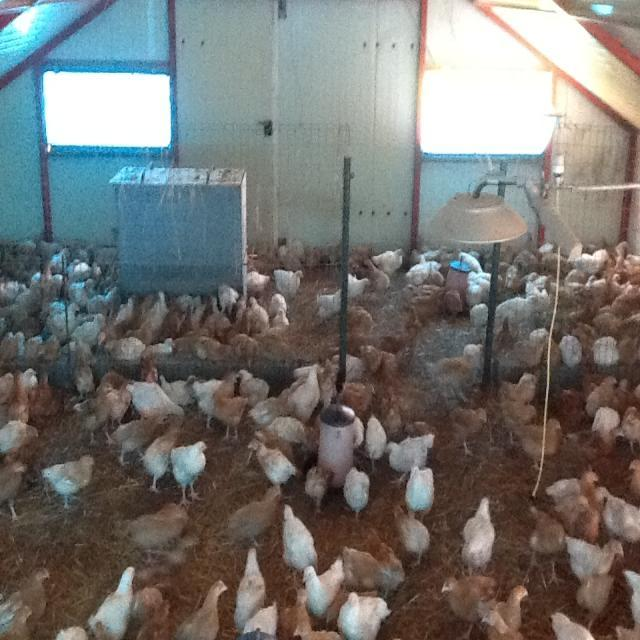poussin: (124, 499, 190, 568), (438, 574, 497, 638), (523, 508, 569, 590), (564, 534, 625, 595), (87, 562, 137, 636), (108, 406, 168, 467), (228, 479, 284, 542), (426, 342, 482, 404), (171, 580, 228, 640), (246, 374, 306, 431), (0, 558, 49, 622), (42, 452, 96, 510), (138, 420, 180, 493), (571, 570, 619, 631), (300, 554, 347, 616), (384, 432, 434, 489), (336, 591, 393, 640), (460, 495, 494, 577), (281, 506, 318, 580), (514, 415, 562, 472), (392, 504, 432, 572), (126, 376, 186, 420), (172, 440, 208, 510), (567, 424, 630, 464), (246, 438, 298, 486), (74, 386, 114, 448), (236, 547, 266, 627), (340, 544, 386, 596), (496, 278, 540, 331), (371, 536, 407, 598), (212, 373, 248, 434), (446, 405, 488, 457), (134, 583, 172, 640), (288, 362, 326, 418), (498, 394, 538, 447), (604, 487, 640, 545), (192, 373, 228, 430), (478, 586, 530, 625), (548, 466, 604, 502), (252, 426, 302, 466), (365, 344, 407, 391), (577, 482, 612, 538), (404, 282, 448, 326), (402, 463, 434, 523), (0, 460, 30, 520), (0, 420, 42, 462), (366, 412, 391, 479), (496, 374, 544, 408), (281, 586, 313, 636), (552, 492, 594, 530), (584, 374, 620, 418), (537, 292, 573, 336), (102, 376, 134, 425), (548, 608, 597, 640), (270, 412, 314, 446), (238, 599, 282, 632), (344, 469, 371, 522), (100, 332, 146, 363), (46, 300, 80, 341), (0, 599, 34, 639), (304, 464, 332, 512), (482, 608, 524, 640), (158, 378, 202, 408), (27, 369, 56, 414), (505, 246, 541, 282), (343, 303, 378, 340), (562, 294, 605, 324), (314, 360, 342, 406), (192, 332, 234, 362), (342, 380, 379, 414), (315, 282, 343, 326), (407, 256, 447, 286), (574, 246, 611, 278), (4, 238, 36, 275), (275, 262, 306, 300), (161, 295, 187, 340), (73, 310, 105, 346), (73, 350, 96, 400), (238, 368, 269, 404), (598, 308, 640, 334), (364, 252, 392, 290), (142, 335, 180, 363), (34, 257, 62, 295), (207, 296, 231, 340), (0, 299, 33, 331), (215, 280, 242, 318), (144, 292, 172, 328), (290, 621, 343, 640), (620, 404, 640, 454), (515, 336, 546, 368), (182, 293, 206, 334), (467, 266, 492, 305), (610, 282, 640, 314), (340, 351, 368, 385), (230, 330, 258, 364), (86, 284, 115, 316), (66, 272, 95, 304), (340, 270, 369, 301), (374, 246, 406, 274), (0, 329, 27, 362), (576, 322, 597, 364), (243, 268, 274, 296), (592, 406, 622, 434), (558, 332, 582, 367), (9, 386, 31, 424), (444, 286, 466, 324), (621, 324, 640, 366), (545, 272, 578, 296), (248, 295, 269, 332), (15, 366, 40, 396), (606, 238, 628, 272), (114, 296, 136, 330), (457, 246, 483, 274), (0, 276, 26, 304), (582, 272, 612, 296), (16, 282, 40, 312), (540, 250, 574, 270), (614, 375, 630, 417), (610, 268, 632, 298), (38, 336, 62, 363), (268, 290, 290, 318), (50, 246, 71, 275), (597, 336, 618, 364), (470, 303, 490, 332), (544, 334, 562, 366), (66, 254, 90, 278), (0, 372, 15, 410), (628, 457, 640, 502), (24, 332, 42, 362), (270, 308, 292, 329), (623, 252, 640, 272)
